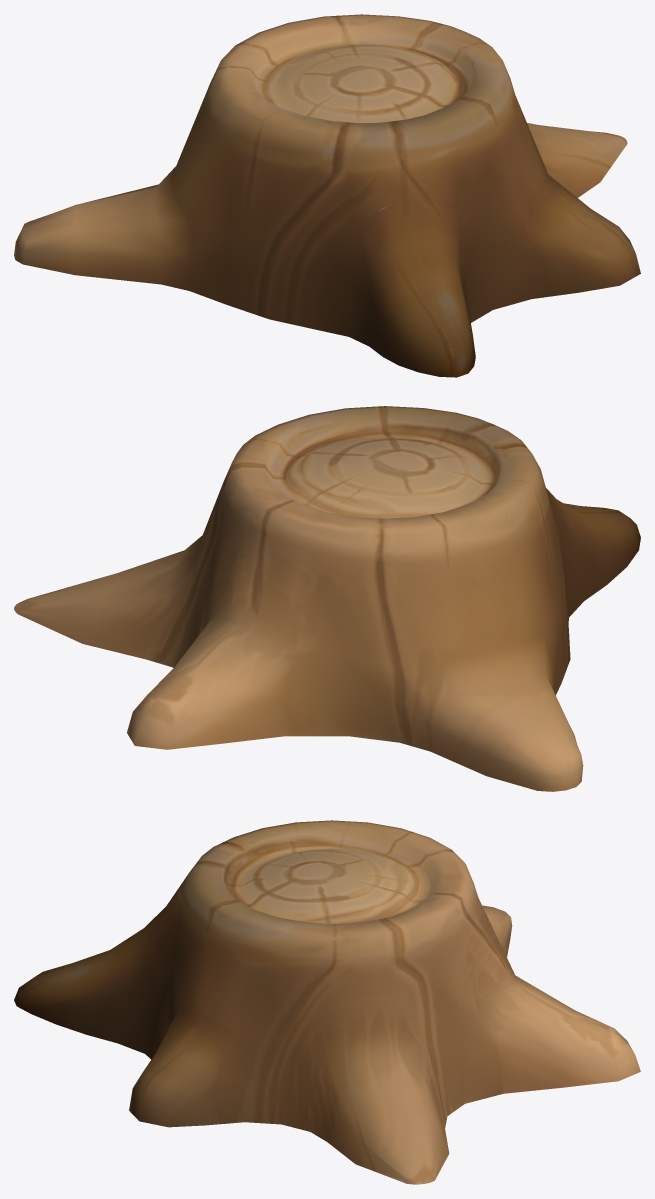
The model's file is stump_L.fbx.
3 renders of one model, top to bottom at view 1: azimuth 30°, elevation 25°; view 2: azimuth 150°, elevation 25°; view 3: azimuth 270°, elevation 25°, orthographic. The views are drawn at different scales.
Visible parts, largest first — view 1: stump_L; view 2: stump_L; view 3: stump_L.
Boxes of the visible parts, x1,y1,x2,y2 form: stump_L: (14,14,640,377); stump_L: (14,406,640,791); stump_L: (14,820,640,1184).
Bounding box in the file's own units: 336 × 105 × 334.
Materials: 1 (1 with a texture image).
